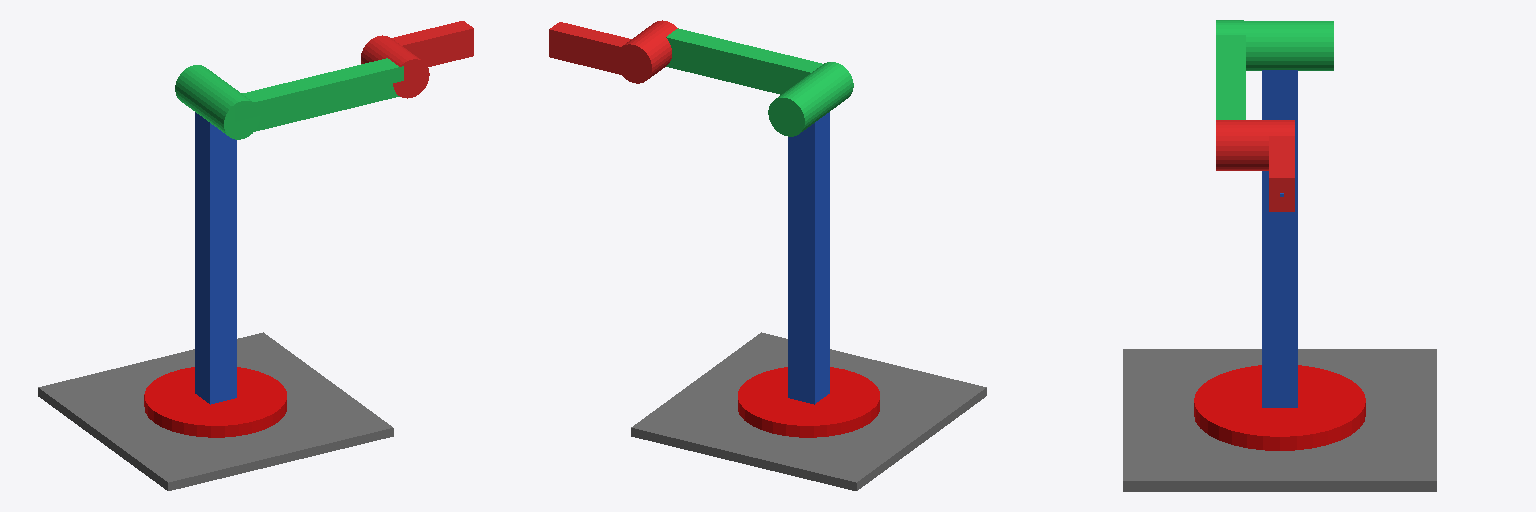
robot.urdf — angular_robot:
<?xml version="1.0"?>
<robot name="angular_robot">

  <!-- ==================== -->
  <!--    LINK BASE FIJA    -->
  <!-- ==================== -->
  <link name="base_link">
    <visual>
      <origin xyz="0 0 0" rpy="0 0 0"/>
      <geometry>
        <box size="0.8 0.8 0.03"/> <!-- base cuadrada -->
      </geometry>
      <material name="gray">
        <color rgba="0.5 0.5 0.5 1.0"/>
      </material>
    </visual>
  </link>

  <!-- ====================================== -->
  <!-- LINK: CILINDRO ENCIMA DE LA BASE (ROTA) -->
  <!-- ====================================== -->
  <link name="base_cylinder_link">
    <visual>
      <origin xyz="0 0 0.0" rpy="0 0 0"/>
      <geometry>
        <cylinder radius="0.22" length="0.05"/> 
      </geometry>
      <material name="red">
        <color rgba="0.9 0.1 0.1 1.0"/>
      </material>
    </visual>
  </link>

  <!-- ====================================== -->
  <!--  JOINT 1: REVOLUTE Z (CILINDRO ROTA)  -->
  <!-- ====================================== -->
  <joint name="base_joint" type="revolute">
    <parent link="base_link"/>
    <child link="base_cylinder_link"/>
    <origin xyz="0 0 0.03" rpy="0 0 0"/>
    <axis xyz="0 0 1"/>
    <limit lower="-3.14" upper="3.14" effort="5" velocity="2"/>
  </joint>

  <!-- ====================== -->
  <!--    LINK: COLUMNA       -->
  <!-- ====================== -->
  <link name="column_link">
    <visual>
      <origin xyz="0 0 0.5" rpy="0 0 0"/>
      <geometry>
        <box size="0.094 0.094 1"/> <!-- cubo alargado -->
      </geometry>
      <material name="blue">
        <color rgba="0.2 0.4 0.8 1.0"/>
      </material>
    </visual>
  </link>

  <!-- ====================================== -->
  <!--  JOINT FIJO: CILINDRO -> COLUMNA      -->
  <!-- ====================================== -->
  <joint name="cylinder_to_column_joint" type="fixed">
    <parent link="base_cylinder_link"/>
    <child link="column_link"/>
    <origin xyz="0 0 0.025" rpy="0 0 0"/>
  </joint>

  <!-- ============================================== -->
  <!--  JOINT :  -->
  <!-- ============================================== -->
  <joint name="column_to_cylinder_joint" type="fixed">
    <parent link="column_link"/>
    <child link="cylinder_link_1"/>
    <origin xyz="0 0 1" rpy="0 0 0"/>
  </joint>

  <!-- =========================== -->
  <!--    LINK:   -->
  <!-- =========================== -->
  <link name="cylinder_link_1">
    <visual>
      <origin xyz="0 -0.0125 0" rpy="1.57 0 0"/>
      <geometry>
        <cylinder radius="0.065" length="0.3"/> 
      </geometry>
      <material name="green">
        <color rgba="0.2 0.8 0.4 1.0"/>
      </material>
    </visual>
  </link>

  <!-- ================================================= -->
  <!--  JOINT 1   -->
  <!-- ================================================= -->
  <joint name="joint_1" type="revolute">
    <parent link="cylinder_link_1"/>
    <child link="link_11"/>
    <origin xyz="0 -0.125 0" rpy="0 0 0"/>
    <axis xyz="0 1 0"/>
    <limit lower="-3.14" upper="3.14" effort="5" velocity="2"/>
  </joint>

  <!-- ===================== -->
  <!--    LINK: 11       -->
  <!-- ===================== -->
  <link name="link_11">
    <visual>
      <origin xyz="0.275 0 0" rpy="0 0 0"/>
      <geometry>
        <box size="0.6 0.075 0.1"/> <!-- cubo alargado -->
      </geometry>
      <material name="green">
        <color rgba="0.2 0.8 0.4 1.0"/>
      </material>
    </visual>
  </link>
  
  
    <!-- ================================================= -->
  <!--  JOINT 12   -->
  <!-- ================================================= -->
  <joint name="joint_12" type="fixed">
    <parent link="link_11"/>
    <child link="link_12"/>
    <origin xyz="0.6 0 0" rpy="0 0 0"/>
    <axis xyz="0 1 0"/>
    <limit lower="-3.14" upper="3.14" effort="5" velocity="2"/>
  </joint>

  <!-- ===================== -->
  <!--    LINK: 12     -->
  <!-- ===================== -->
  <link name="link_12">
    <visual>
      <origin xyz="0 0.0625 0" rpy="1.57 0 0"/>
      <geometry>
        <cylinder radius="0.065" length="0.2"/>
      </geometry>
      <material name="red">
        <color rgba="0.9 0.2 0.2 1.0"/>
      </material>
    </visual>
  </link>
  
  
  
  
  
      <!-- ================================================= -->
  <!--  JOINT 2   -->
  <!-- ================================================= -->
  <joint name="joint_2" type="revolute">
    <parent link="link_12"/>
    <child link="link_21"/>
    <origin xyz="0 0.13 0" rpy="0 0 0"/>
    <axis xyz="0 1 0"/>
    <limit lower="-3.14" upper="3.14" effort="5" velocity="2"/>
  </joint>

  <!-- ===================== -->
  <!--    LINK: 12     -->
  <!-- ===================== -->
  <link name="link_21">
    <visual>
      <origin xyz="0.15 0 0" rpy="0 0 0"/>
      <geometry>
        <box size="0.3 0.065 0.095"/> <!-- cubo alargado -->
      </geometry>
      <material name="red">
        <color rgba="0.9 0.2 0.2 1.0"/>
      </material>
    </visual>
  </link>
  
  
  
  
  
  
  
  
  
  
  <!-- ====================== -->
  <!--    LINK: Efector      -->
  <!-- ====================== -->
  <link name="tool_link">
    <visual>
      <origin xyz="0 0 0" rpy="0 0 0"/>
      <geometry>
        <box size="0.01 0.01 0.01"/> <!-- cubo alargado -->
      </geometry>
      <material name="blue">
        <color rgba="0.2 0.4 0.8 1.0"/>
      </material>
    </visual>
  </link>

  <!-- ====================================== -->
  <!--  JOINT efector     -->
  <!-- ====================================== -->
  <joint name="tool_joint" type="fixed">
    <parent link="link_21"/>
    <child link="tool_link"/>
    <origin xyz="0.3 0 0" rpy="0 0 0"/>
  </joint>

</robot>

--- What the picture shows (computed from the rendered views, not written in the file) ---
Views: 3 orthographic renders of the robot side by side, from view 1: azimuth 30°, elevation 25°; view 2: azimuth 150°, elevation 25°; view 3: azimuth 270°, elevation 25°.
Robot: angular_robot — 8 links, 7 joints (3 revolute, 4 fixed); root link base_link; default pose: every joint at zero.
Links seen in each view (by area): view 1: base_link, column_link, base_cylinder_link, link_11, cylinder_link_1, link_21, link_12; view 2: base_link, column_link, base_cylinder_link, link_11, cylinder_link_1, link_21, link_12; view 3: base_link, base_cylinder_link, column_link, cylinder_link_1, link_12, link_11, link_21.
Link boxes in pixels (x1,y1,x2,y2): base_link: (38,332,393,490); column_link: (195,112,236,404); base_cylinder_link: (144,367,286,437); link_11: (235,58,403,131); cylinder_link_1: (175,65,260,139); link_21: (392,21,473,66); link_12: (361,35,429,98); base_link: (631,332,986,490); column_link: (788,112,829,404); base_cylinder_link: (738,367,879,437); link_11: (666,28,822,94); cylinder_link_1: (768,62,853,136); link_21: (549,22,633,77); link_12: (615,20,677,83); base_link: (1123,349,1436,491); base_cylinder_link: (1194,365,1365,450); column_link: (1262,70,1297,407); cylinder_link_1: (1216,20,1333,70); link_12: (1216,120,1294,170); link_11: (1216,35,1245,119); link_21: (1269,136,1294,211).
Bounding box of the posed robot: 1.3 × 0.8 × 1.14 m (x, y, z).
Geometry: primitives only (box / cylinder / sphere), no mesh files.